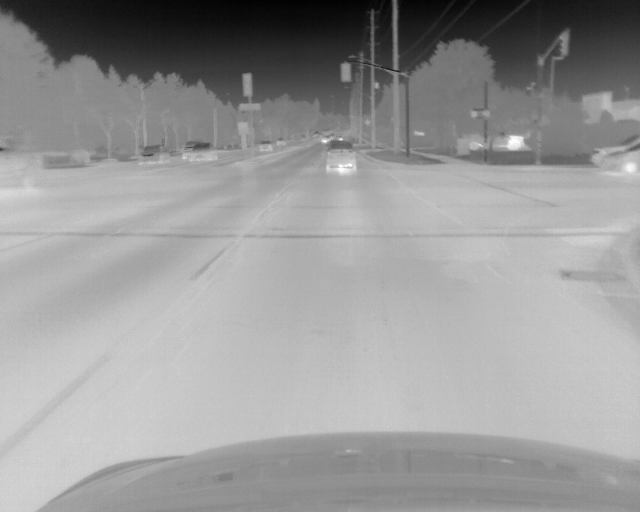car: (1, 134, 43, 187), (591, 136, 640, 169), (326, 139, 358, 174), (602, 144, 640, 173), (187, 141, 218, 163), (138, 144, 170, 164), (180, 140, 198, 154), (259, 142, 275, 154)
